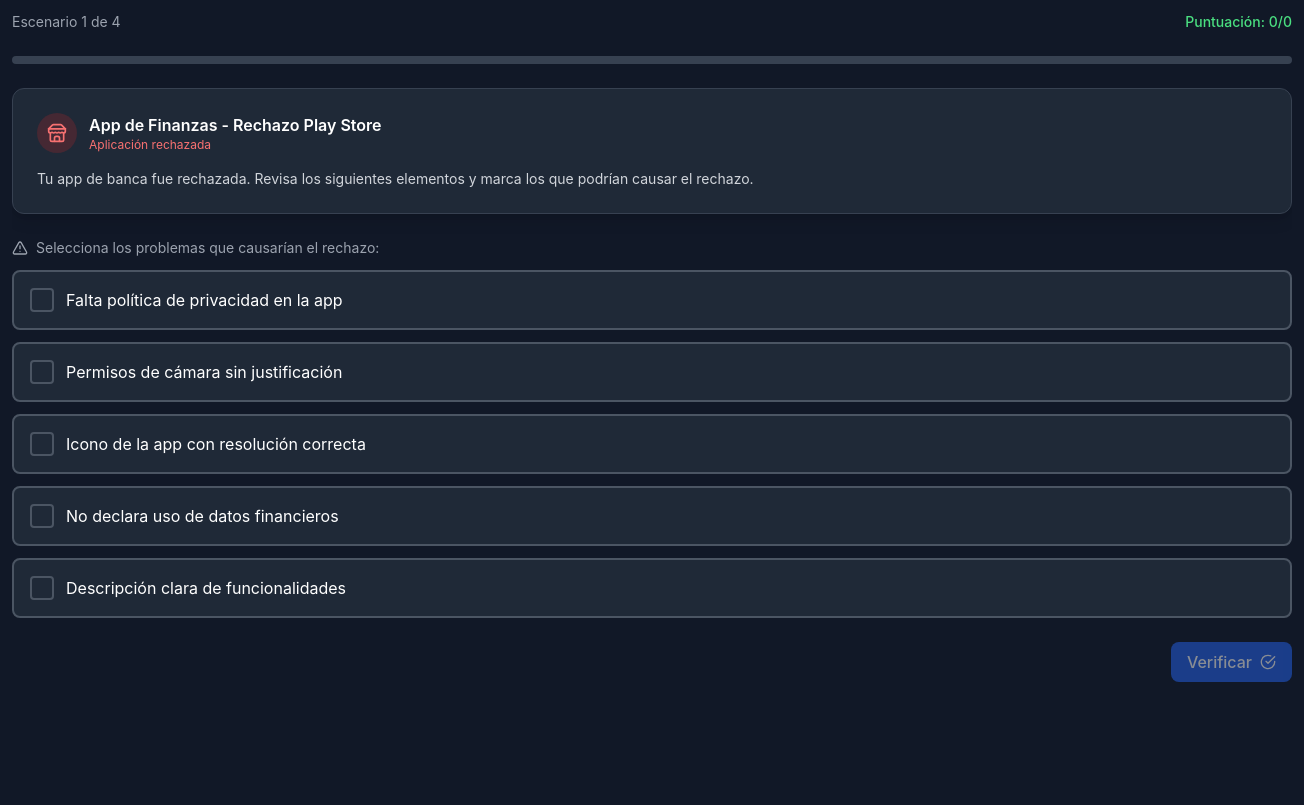
StoreReviewer › verification › should show correct indicator for right selections
The width and height of the screenshot is (1304, 805).
Select a correct issue
Click the button "Falta política de privacidad en la app". click: (204, 300)
box: [12,270,1292,330]
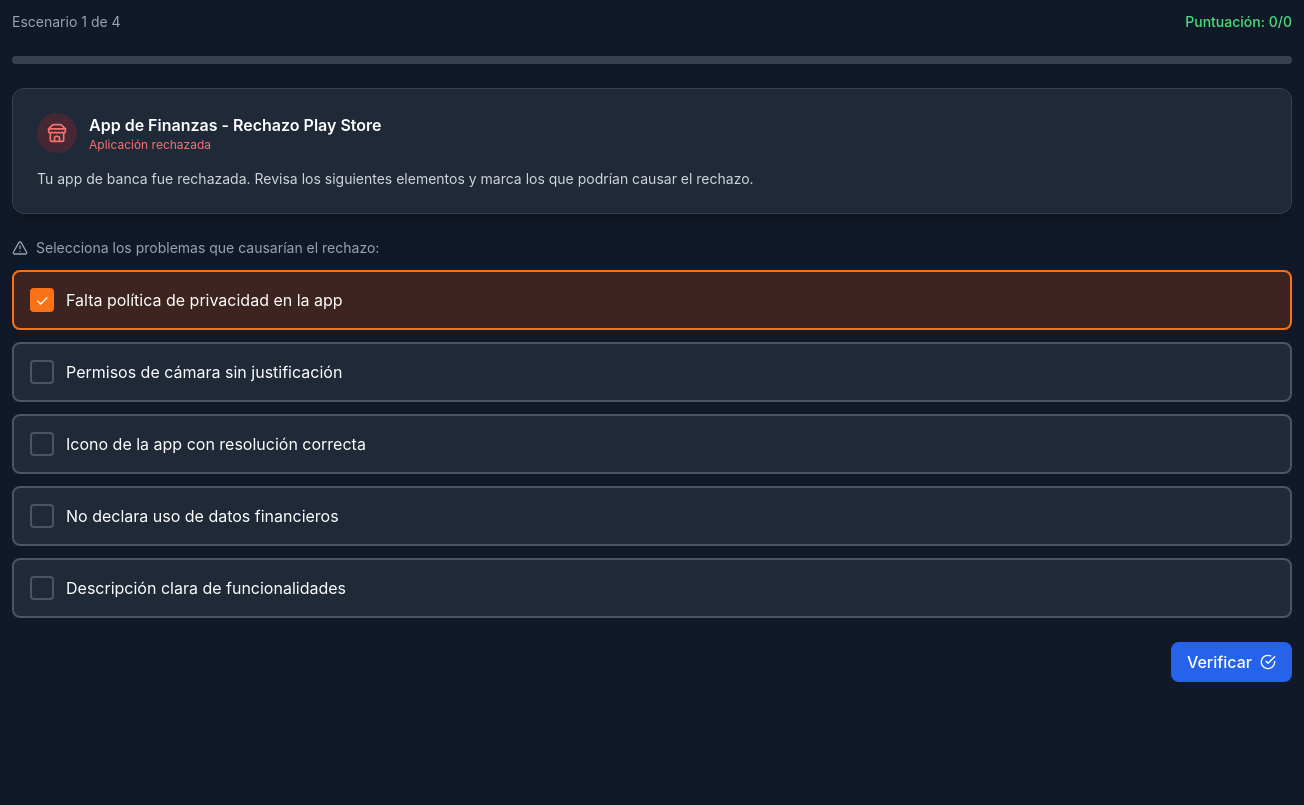
Click the button "Verificar". click: (1232, 662)
box: [1171,642,1292,682]
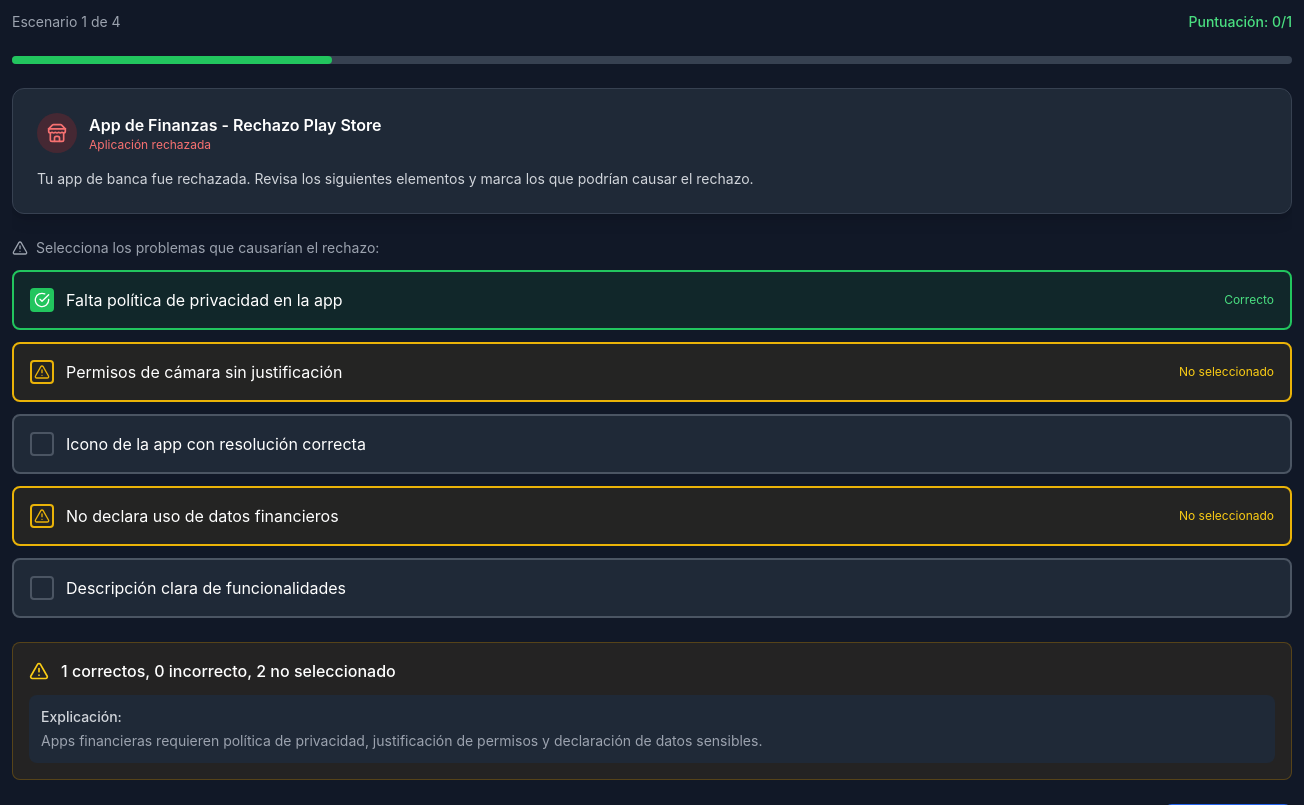
Result: the text "Correcto" is shown at [1224,292,1274,308]
